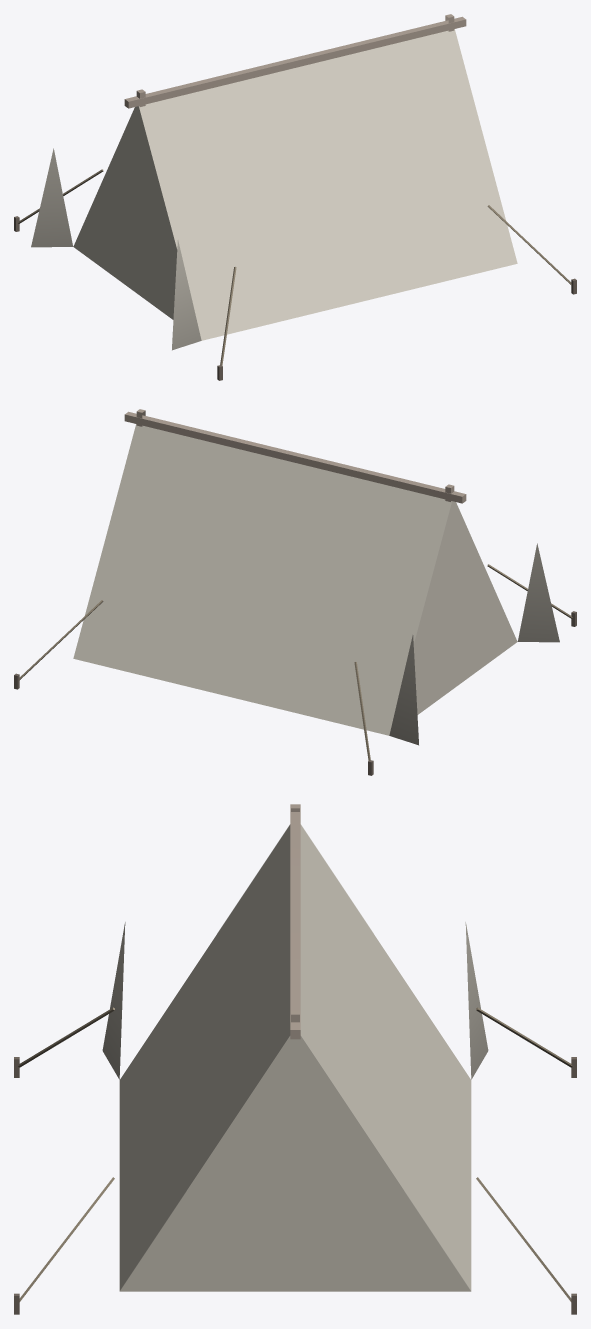
File: tent_0.glb
3 views of the same model, one above another, from view 1: azimuth 30°, elevation 25°; view 2: azimuth 150°, elevation 25°; view 3: azimuth 270°, elevation 25° (orthographic). The views are drawn at different scales.
Parts seen in each view (by area): view 1: tent_0; view 2: tent_0; view 3: tent_0.
Boxes of the visible parts, x1,y1,x2,y2 form: tent_0: (14,14,576,380); tent_0: (14,409,576,775); tent_0: (14,804,576,1314).
Bounding box in the file's own units: 5.16 × 2.76 × 4.93.
